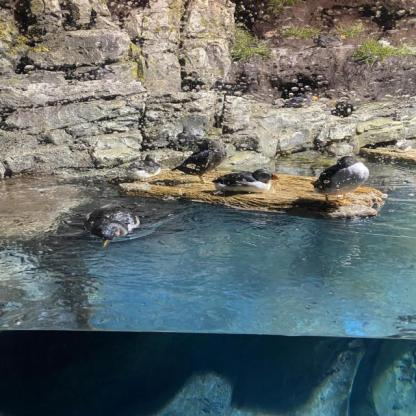puffin: (164, 131, 226, 184), (312, 155, 370, 203), (85, 198, 139, 248), (215, 171, 279, 197), (284, 93, 320, 110), (315, 34, 349, 49), (332, 98, 350, 118)
